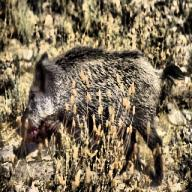boar: (13, 45, 186, 187)
